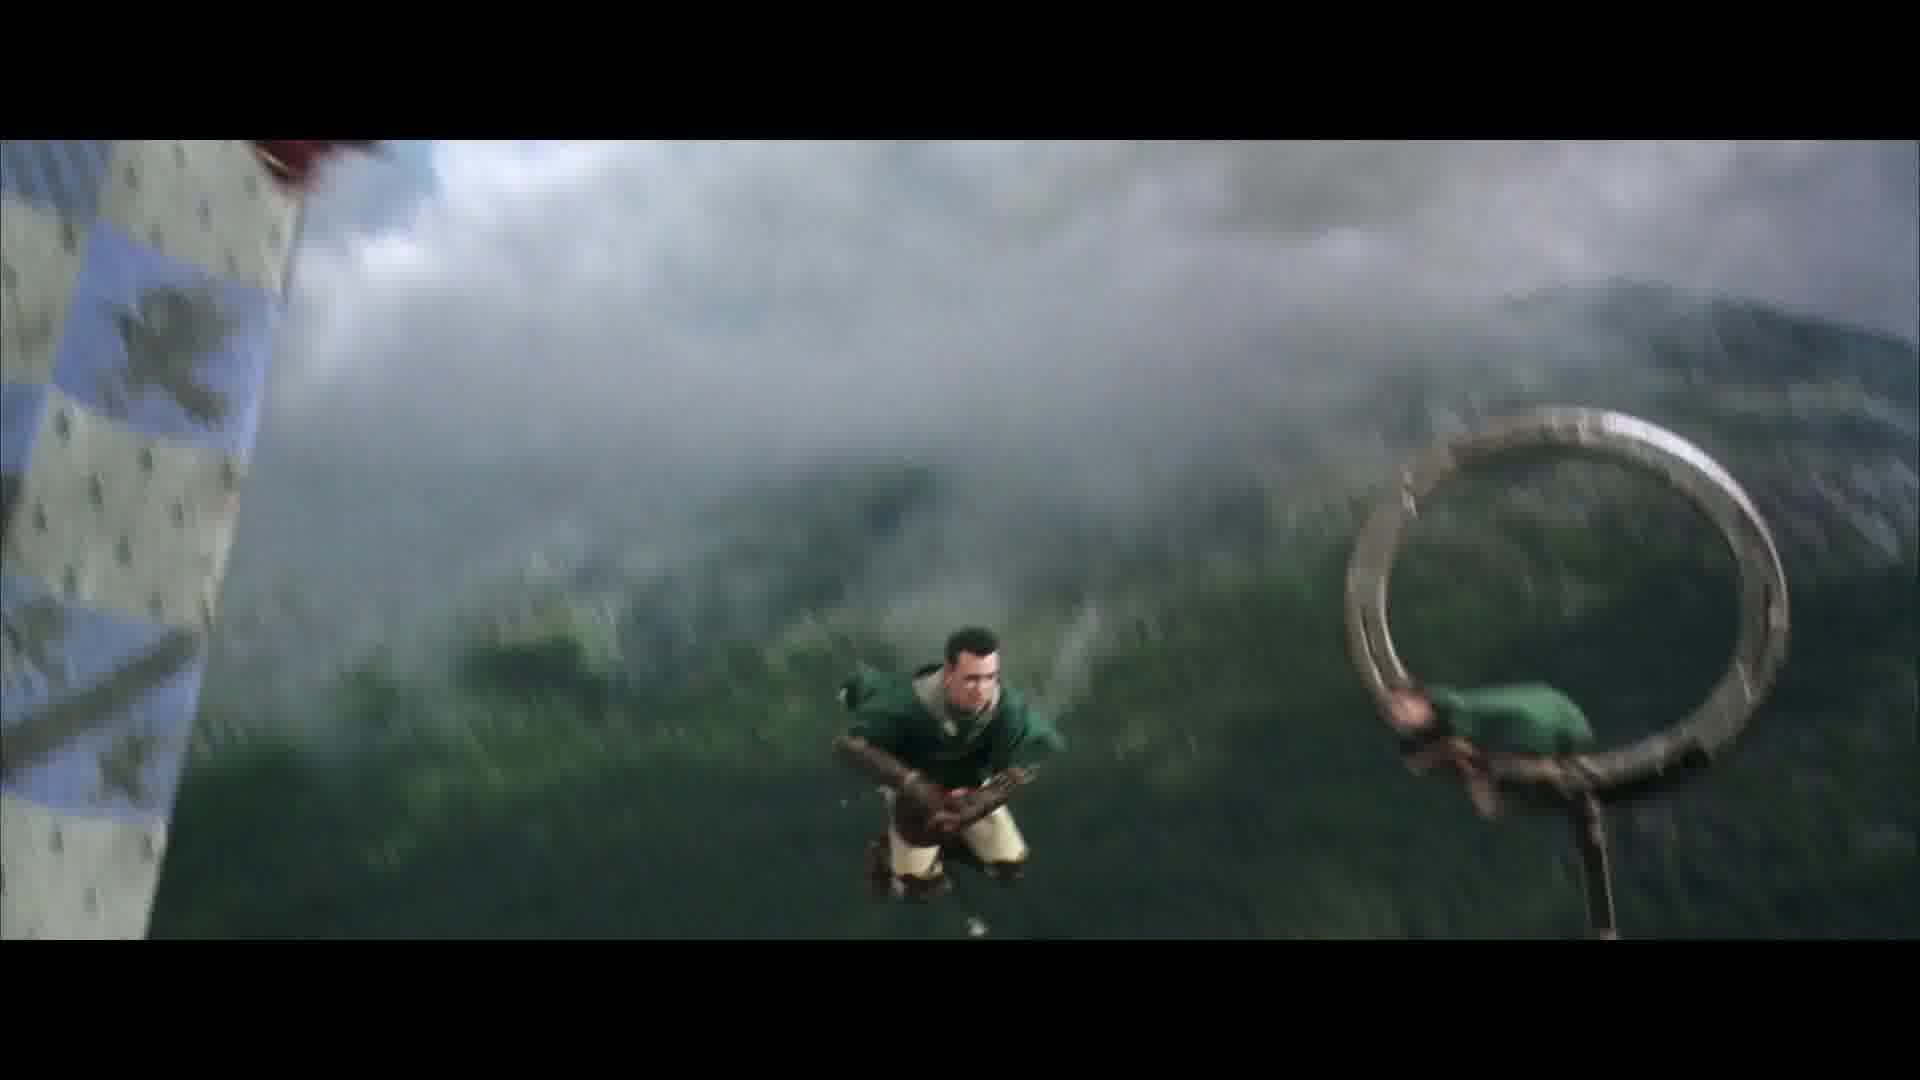quaffle: (891, 783, 959, 858)
